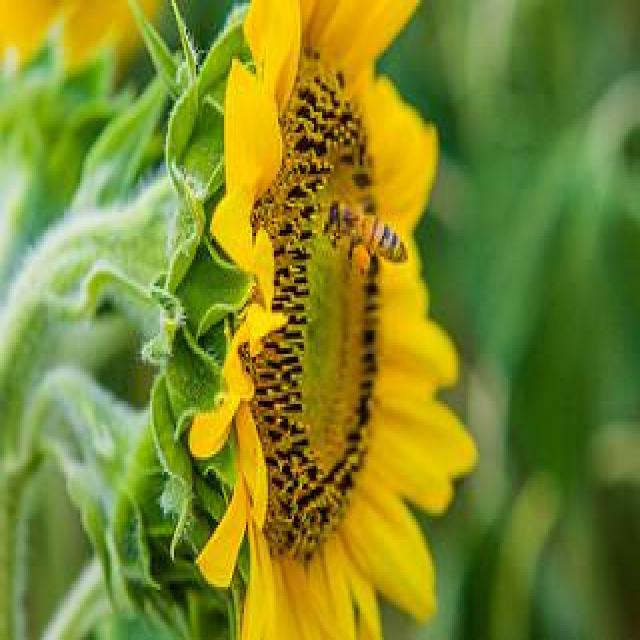sunflower: (155, 0, 475, 640)
